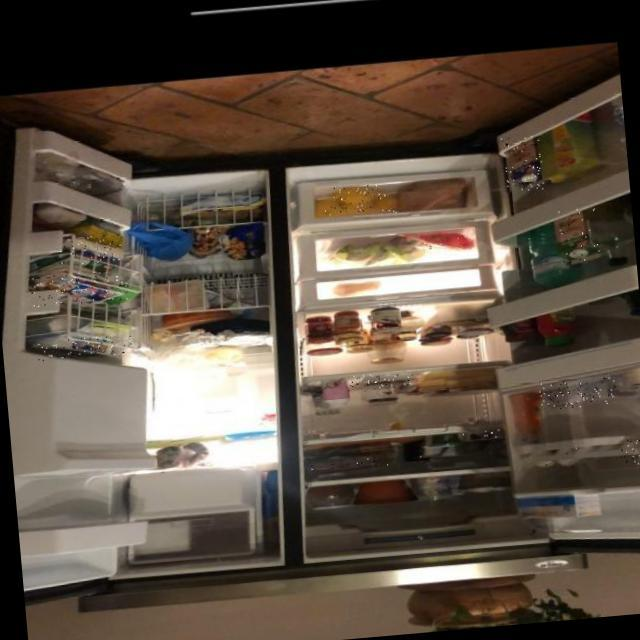Carne cerdo: (303, 454, 392, 475)
Cebolla: (423, 229, 473, 253)
Huevos: (528, 446, 582, 471), (617, 436, 640, 465)
Limón: (329, 183, 380, 205), (372, 193, 400, 213), (315, 197, 341, 217), (339, 198, 376, 212)
Queso: (29, 267, 129, 306), (36, 333, 131, 361), (59, 232, 124, 264)
Yogur: (538, 375, 624, 409), (611, 360, 640, 394), (458, 428, 502, 443), (418, 443, 459, 458)
meat: (345, 370, 414, 391)
milk: (500, 134, 544, 191), (557, 206, 600, 264)
